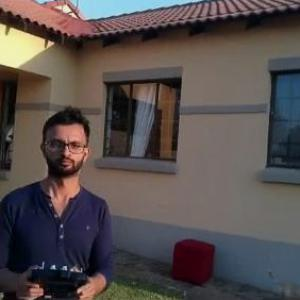follow: (0, 95, 126, 299)
null: (264, 267, 299, 299)
